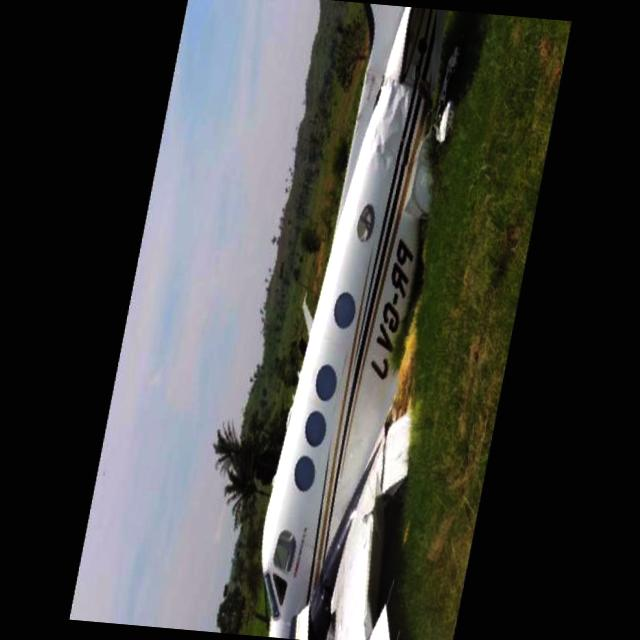dent: (363, 82, 414, 174)
